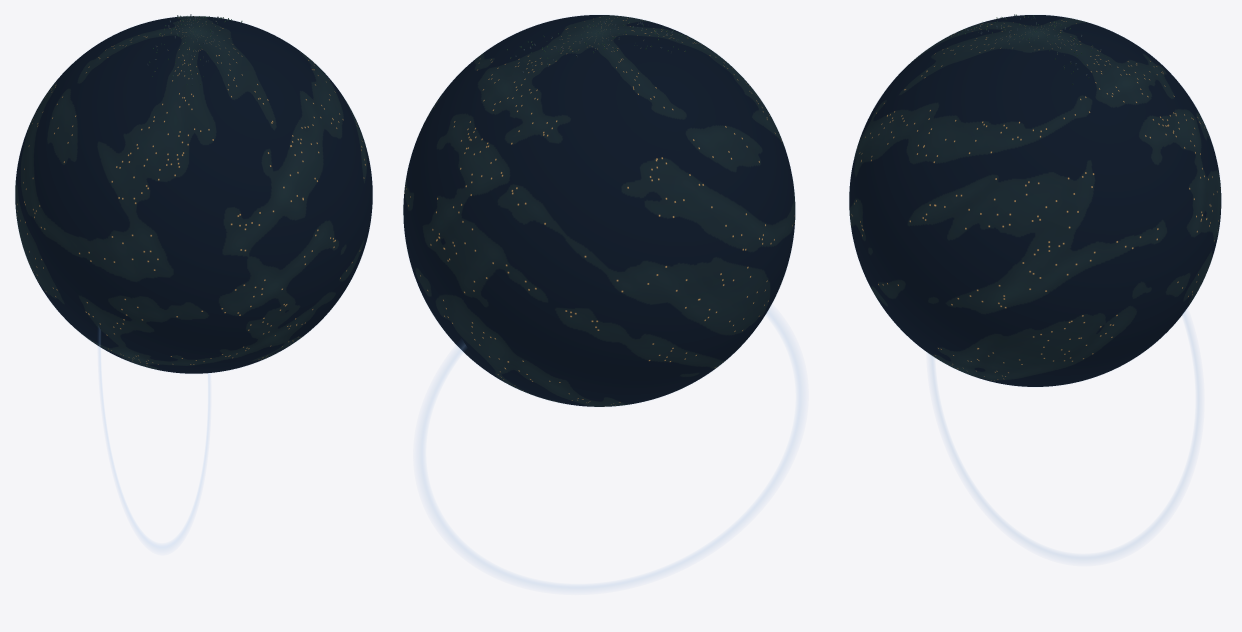
Rendered from world.earth.glb.
3 views of the same model, side by side, from view 1: azimuth 30°, elevation 25°; view 2: azimuth 150°, elevation 25°; view 3: azimuth 270°, elevation 25° (orthographic). The views are drawn at different scales.
Visible parts, largest first — view 1: world.earth, glow; view 2: world.earth, glow; view 3: world.earth, glow.
Boxes of the visible parts, <box> form: world.earth: <box>15,14,372,373</box>; glow: <box>99,329,209,549</box>; world.earth: <box>403,15,795,406</box>; glow: <box>419,310,802,589</box>; world.earth: <box>849,14,1221,386</box>; glow: <box>931,312,1199,559</box>.
Bounding box in the file's own units: 35.36 × 54.64 × 35.36.
299 materials, 2 textured.
